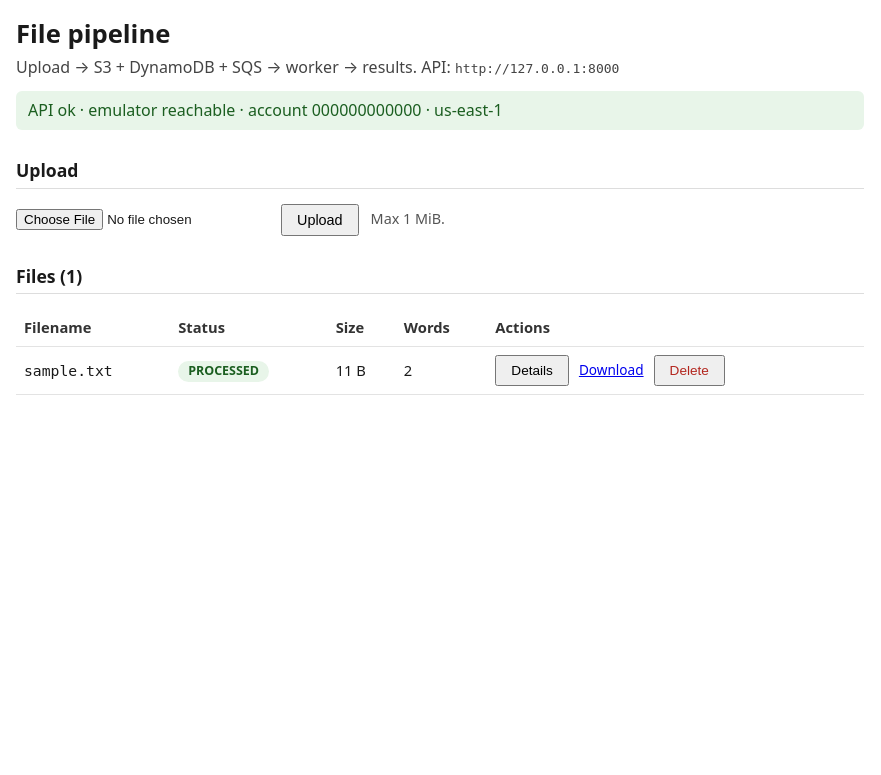
Scenario: details click renders the file detail instead of crashing
Expected: the text "sample.txt" is shown, x1=16 y1=346 x2=170 y2=394
Click the button "Details" at (532, 370), box x1=495 y1=355 x2=569 y2=386
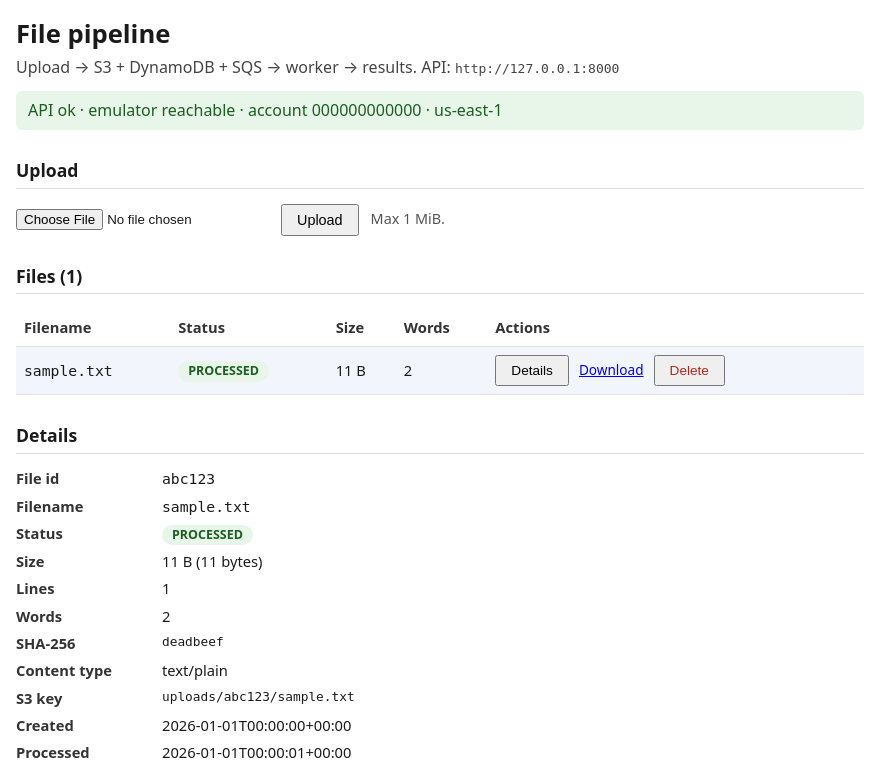
Expected: the heading "File pipeline" is shown, x1=16 y1=16 x2=170 y2=51
Now the text "deadbeef" is shown, box x1=162 y1=634 x2=224 y2=649
Now the text "abc123" is shown, box x1=162 y1=470 x2=215 y2=487
